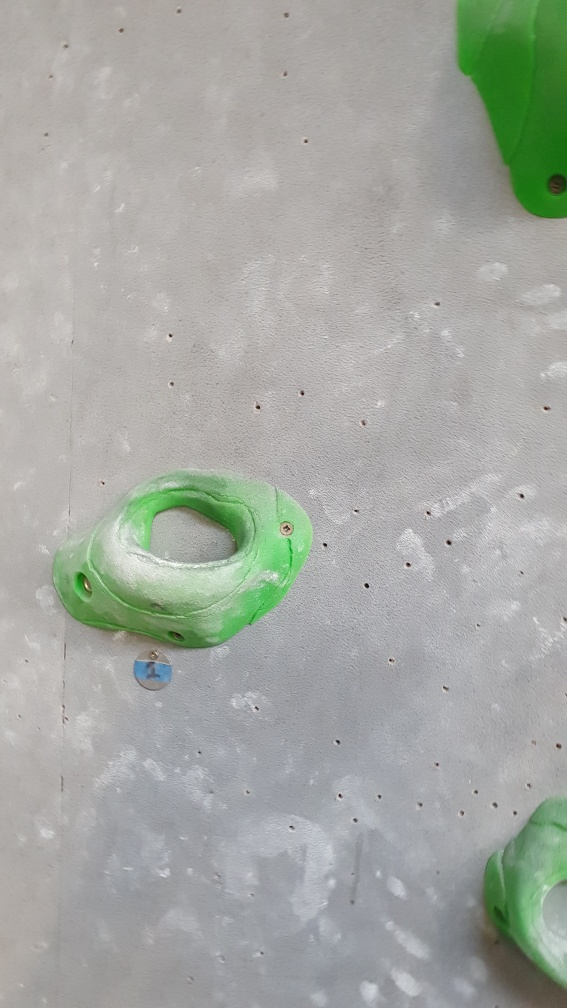Hand Start: (131, 648, 176, 694)
Pocket: (50, 465, 317, 648), (485, 798, 567, 992)
